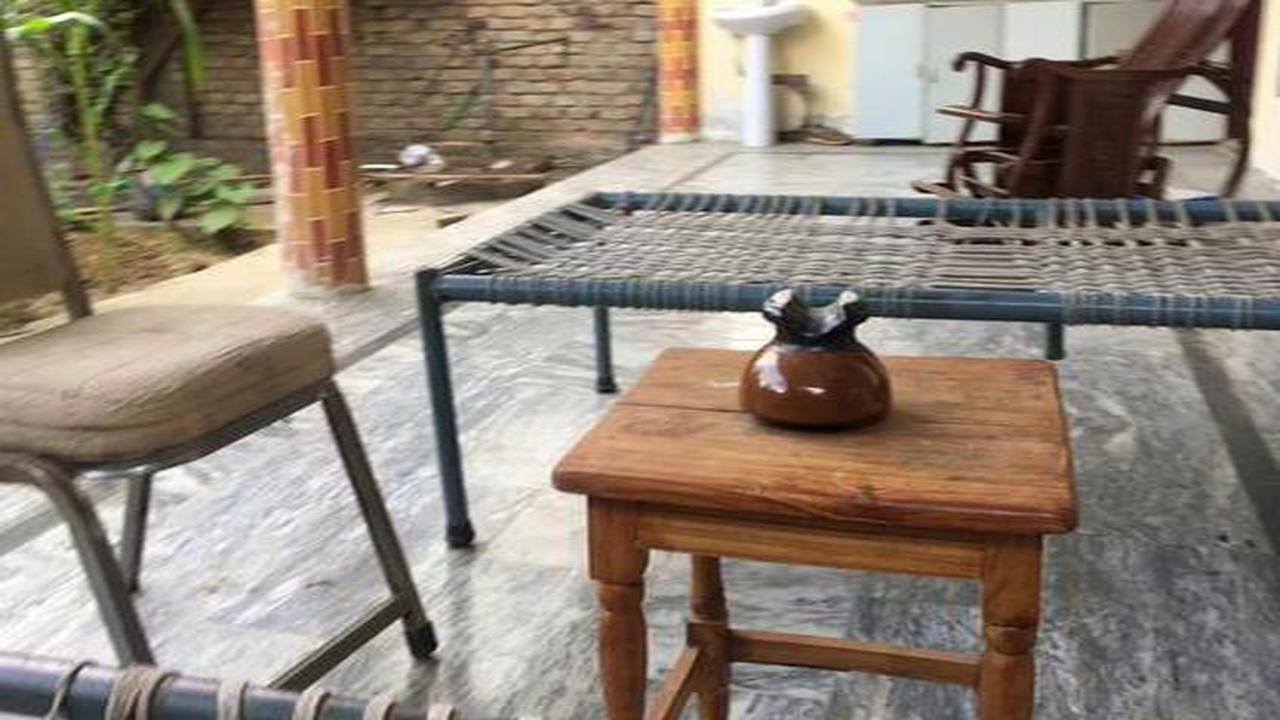insulator_pin: (724, 265, 908, 440)
